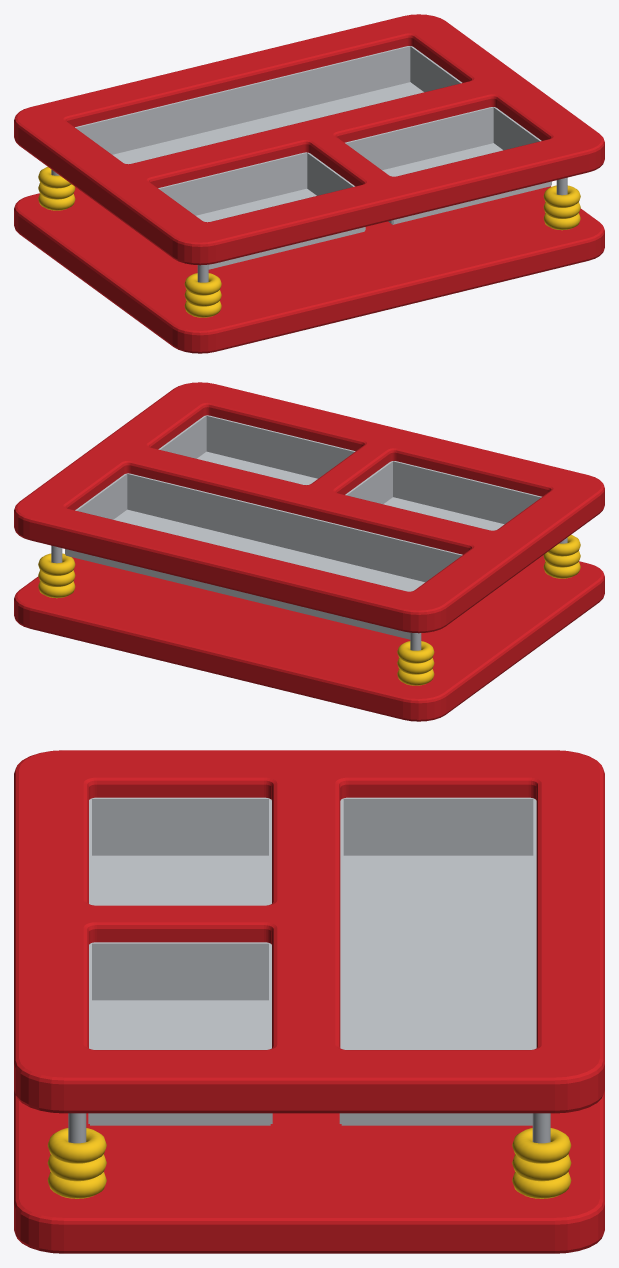
The model's file is study-plate.glb.
The picture shows the model from 3 angles, top to bottom: view 1: azimuth 30°, elevation 25°; view 2: azimuth 150°, elevation 25°; view 3: azimuth 270°, elevation 25°; orthographic projection. The views are drawn at different scales.
Visible parts, largest first — view 1: top-frame, base, tray-long, tray-right, tray-left, roller-4, roller-3, roller-1; view 2: top-frame, base, tray-long, tray-right, tray-left, roller-1, roller-2, roller-3; view 3: top-frame, base, tray-long, tray-right, tray-left, roller-2, roller-4.
Part boxes in pixels (x1=…): top-frame: x1=14, y1=14, x2=604, y2=265; base: x1=14, y1=186, x2=604, y2=353; tray-long: x1=75, y1=46, x2=462, y2=164; tray-right: x1=345, y1=107, x2=551, y2=224; tray-left: x1=158, y1=152, x2=365, y2=269; roller-4: x1=543, y1=185, x2=580, y2=230; roller-3: x1=184, y1=273, x2=221, y2=317; roller-1: x1=38, y1=167, x2=75, y2=210; top-frame: x1=14, y1=382, x2=604, y2=633; base: x1=14, y1=555, x2=604, y2=721; tray-long: x1=65, y1=473, x2=462, y2=639; tray-right: x1=158, y1=415, x2=355, y2=484; tray-left: x1=345, y1=461, x2=541, y2=530; roller-1: x1=397, y1=641, x2=434, y2=685; roller-2: x1=38, y1=553, x2=75, y2=598; roller-3: x1=543, y1=535, x2=580, y2=578; top-frame: x1=14, y1=750, x2=604, y2=1113; base: x1=14, y1=1090, x2=604, y2=1253; tray-long: x1=339, y1=797, x2=536, y2=1125; tray-right: x1=88, y1=942, x2=272, y2=1125; tray-left: x1=89, y1=797, x2=271, y2=905; roller-2: x1=512, y1=1128, x2=571, y2=1198; roller-4: x1=47, y1=1128, x2=106, y2=1198.
Bounding box in the file's own units: 1.22 × 0.301 × 0.916.
